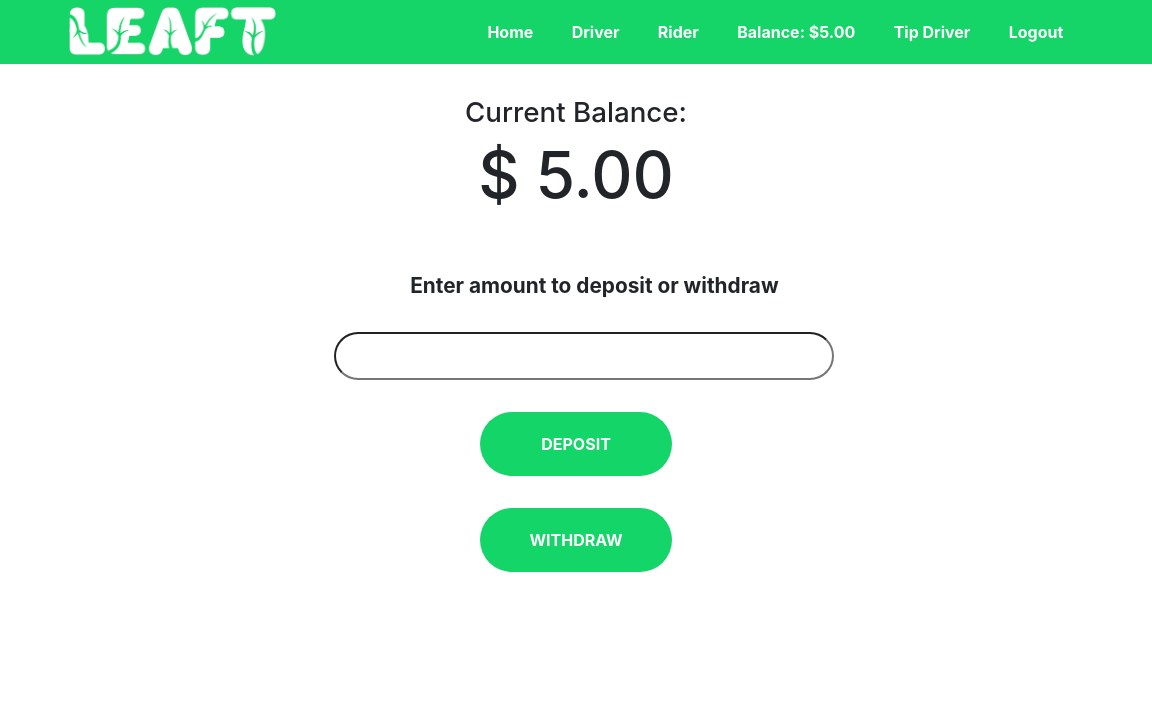
Scenario: Balance Update › should display an error on page load
Click the button "Deposit" at (576, 444), box [480,412,672,476]
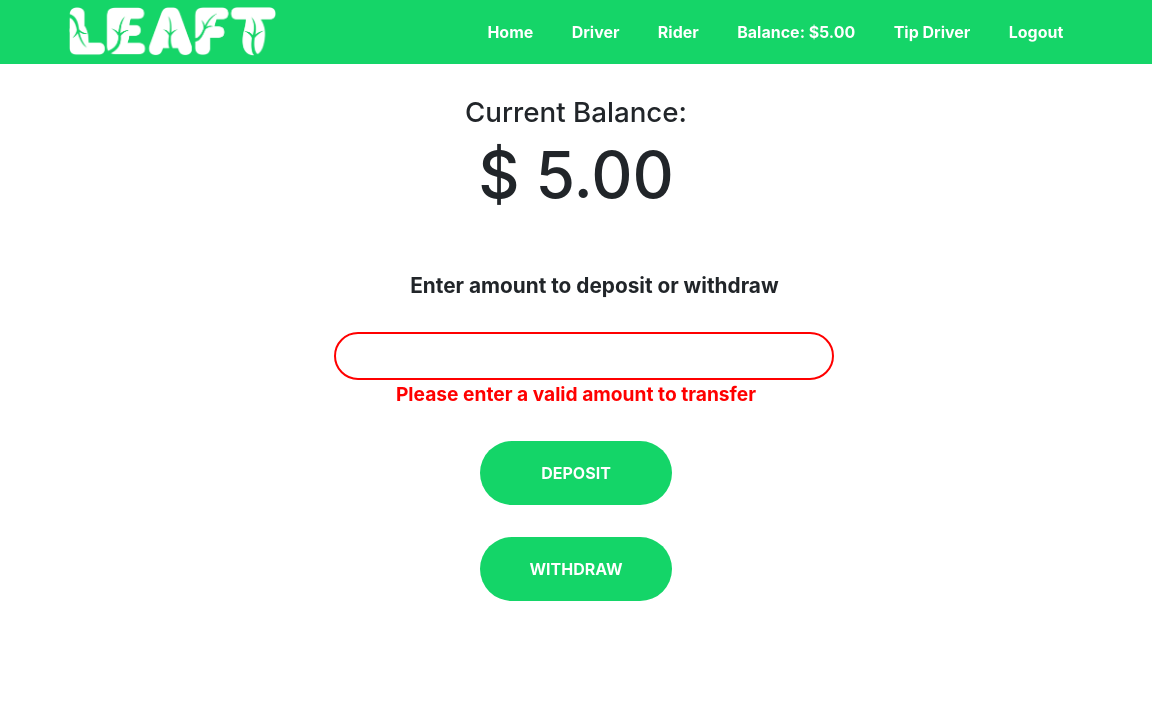
Now the text "Please enter a valid amount to transfer" is shown, box [396,382,756,406]
